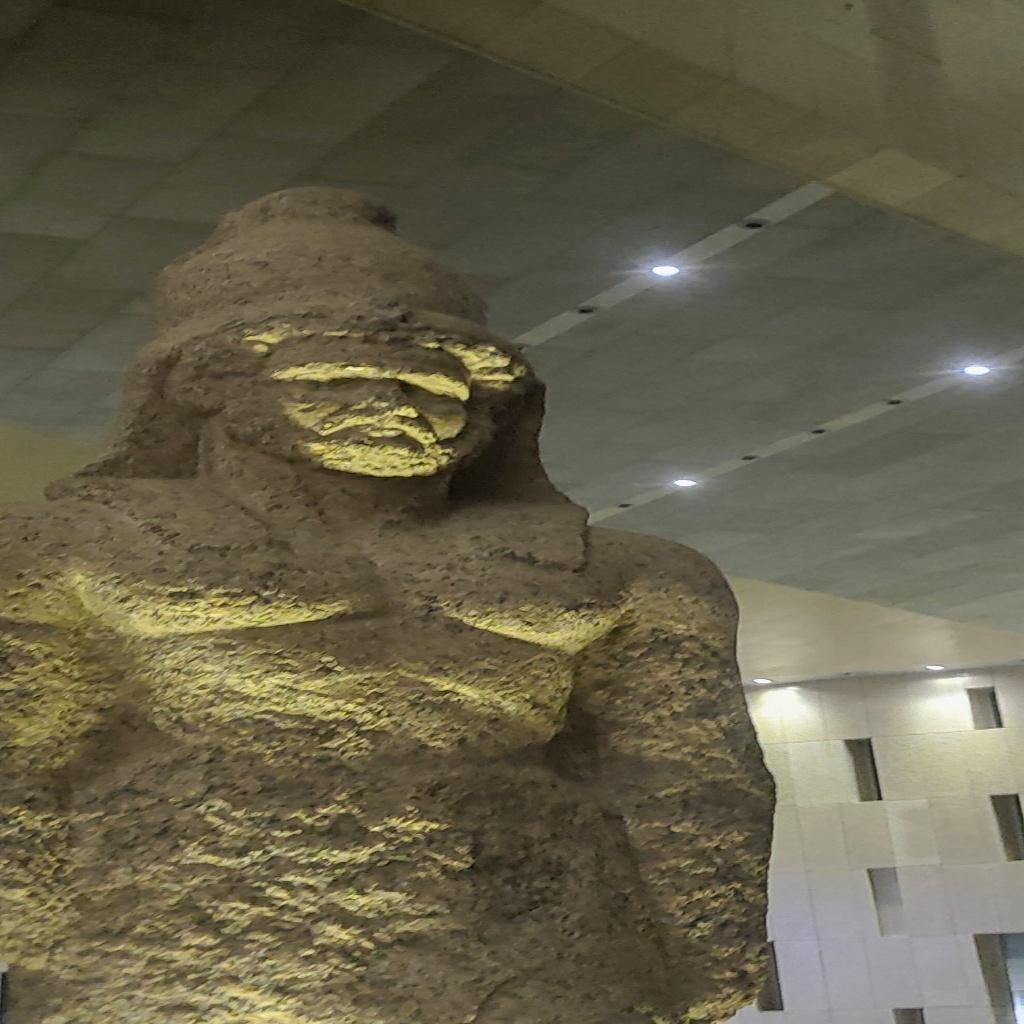Statue of Carcala: (6, 182, 784, 1020)
